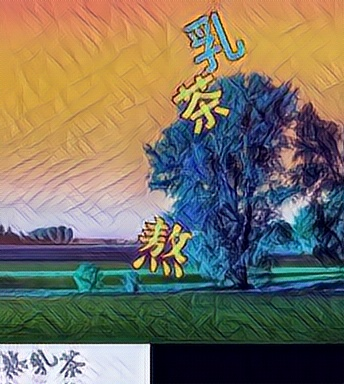B0BE: (131, 212, 194, 279)
B2E8: (172, 71, 235, 138)
C8E9: (182, 5, 245, 72)
